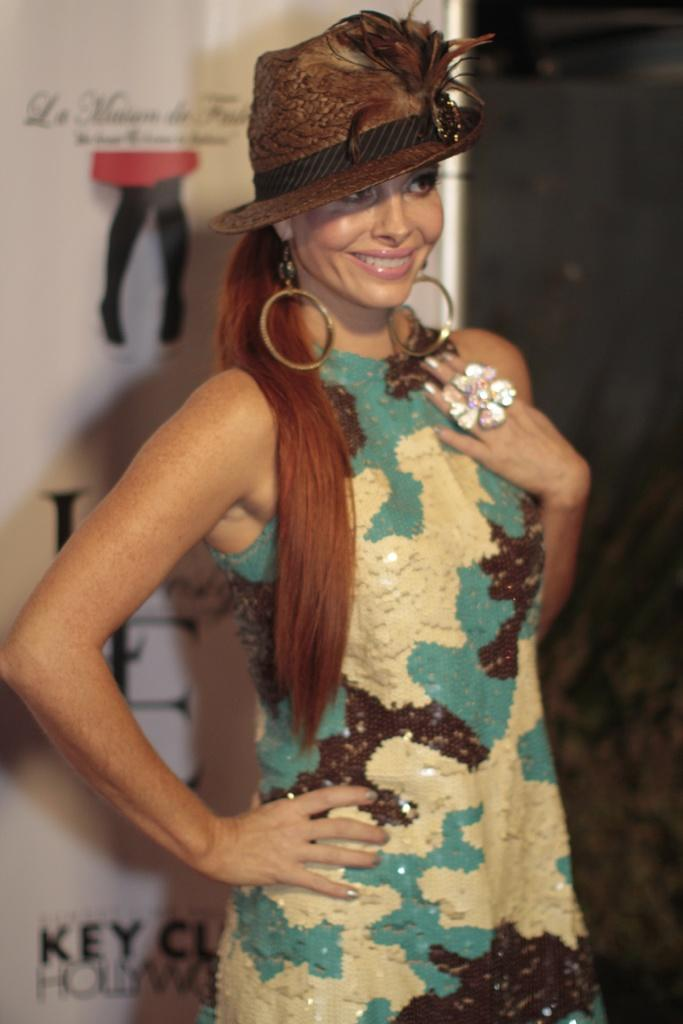Hat: (206, 8, 489, 233)
